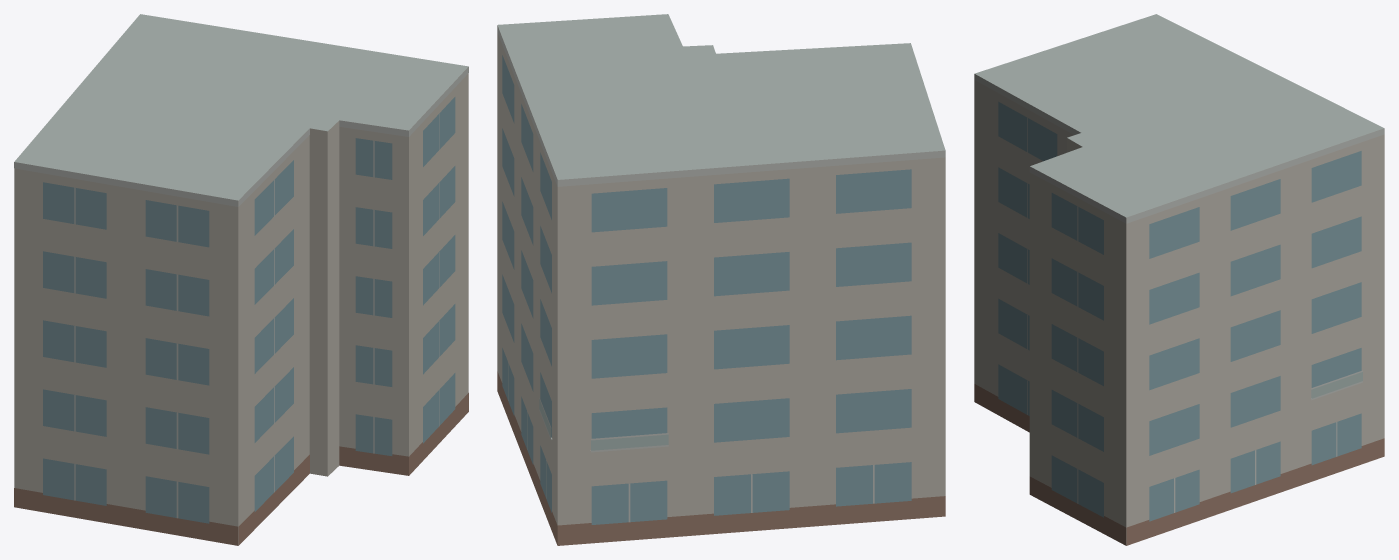
Rendered from survey-upis-32745588.glb.
3 renders of one model, left to right at view 1: azimuth 30°, elevation 25°; view 2: azimuth 150°, elevation 25°; view 3: azimuth 270°, elevation 25°, orthographic. The views are drawn at different scales.
Visible parts, largest first — view 1: survey-upis-32745588.tmp; view 2: survey-upis-32745588.tmp; view 3: survey-upis-32745588.tmp.
Part boxes in pixels (left/top/right/bottom): survey-upis-32745588.tmp: left=14, top=14, right=468, bottom=545; survey-upis-32745588.tmp: left=497, top=14, right=945, bottom=545; survey-upis-32745588.tmp: left=974, top=14, right=1384, bottom=545.
Size of the model in its own units: 17.3 by 13 by 14.73.
